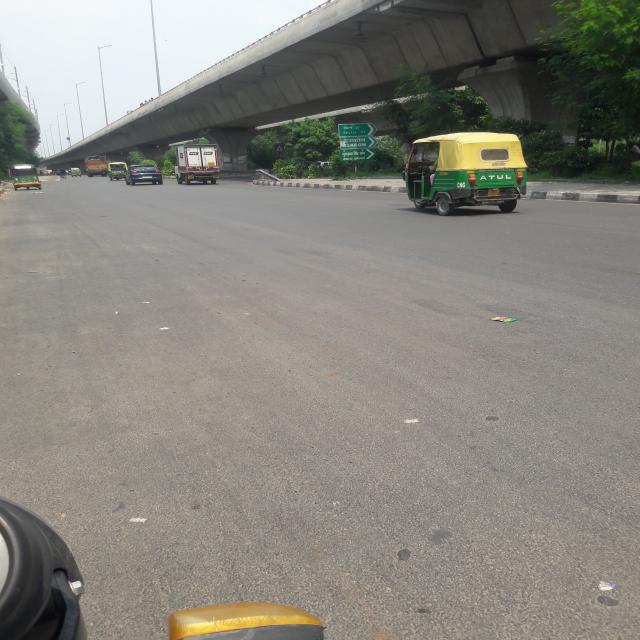GENERAL: (338, 123, 378, 162)
